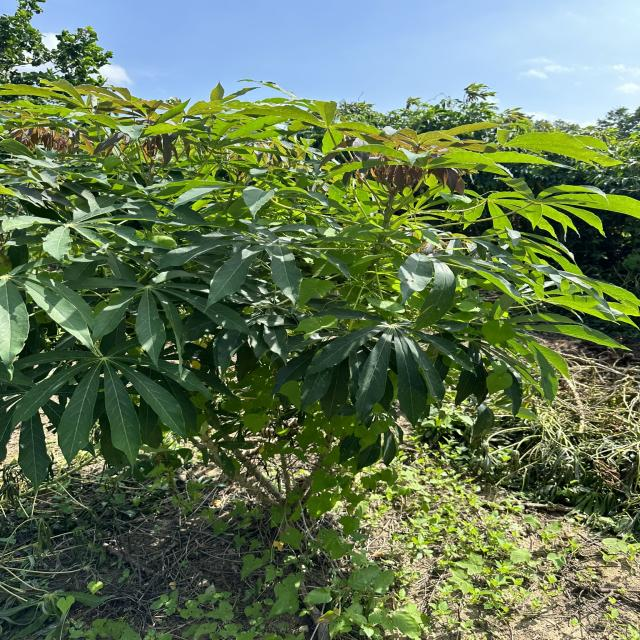Mosca: (512, 337, 528, 356), (507, 346, 520, 367), (183, 284, 198, 300), (385, 362, 397, 375), (154, 298, 169, 308), (433, 302, 444, 314), (119, 348, 132, 358), (85, 362, 98, 372)
